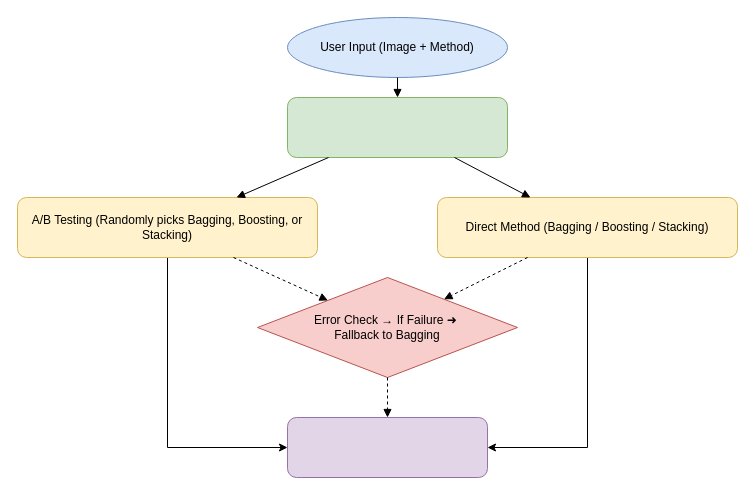
Image size: 755x495. Some labels were removed from this diagram. Here are the shapes that lost their labels. From the top down, the centre of each, then its label:
[397,127]: Ensemble Aggregator
[387,447]: Prediction Output
